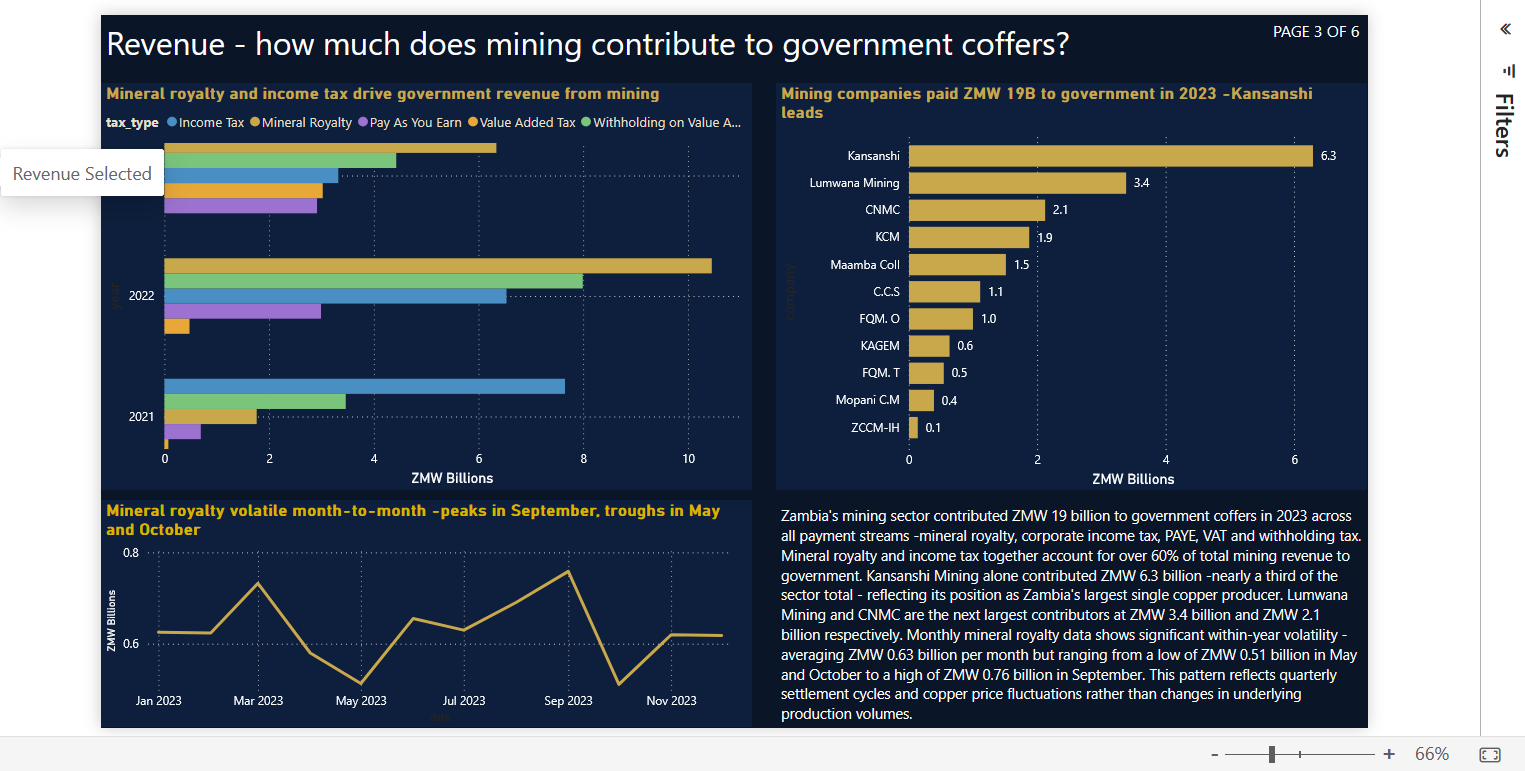

This screenshot's page, from the dashboard's own definition file:
{"tool":"powerbi","page":{"name":"Revenue","canvas":[1280,720],"ordinal":2},"visuals":[{"type":"textbox","box":[0,0,1093.6,68],"z":0},{"type":"textbox","box":[1178.2,0,101.2,52.9],"z":1000},{"type":"clusteredBarChart","title":"Mineral royalty and income tax drive government revenue from mining","fields":{"Y":["Sum(2_revenue_master.amount_zmw_billions)"],"Category":["2_revenue_master.year"],"Series":["2_revenue_master.tax_type"]},"box":[0,68,657.6,412],"z":2000},{"type":"clusteredBarChart","title":"Mining companies paid ZMW 19B to government in 2023 -Kansanshi leads","fields":{"Category":["3_company_fiscal_master.company"],"Y":["Sum(3_company_fiscal_master.amount_zmw_billions)"]},"box":[682.2,68,597.2,412],"z":3000},{"type":"lineChart","title":"Mineral royalty volatile month-to-month -peaks in September, troughs in May and October","fields":{"Category":["2_revenue_master.date"],"Y":["Sum(2_revenue_master.amount_zmw_billions)"]},"box":[0,490,658,230],"z":4000},{"type":"textbox","box":[682,490,597,230],"z":5000}]}

Visuals, with their boxes on the page's 1280x720 design canvas (x1, y1, x2, y2). These are canvas units, not pixel positions in the 1525x771 screenshot, which may show the page scaled, cropped or inside an application window:
textbox: [0,0,1094,68]
textbox: [1178,0,1279,53]
"Mineral royalty and income tax drive government revenue from mining" clusteredBarChart: [0,68,658,480]
"Mining companies paid ZMW 19B to government in 2023 -Kansanshi leads" clusteredBarChart: [682,68,1279,480]
"Mineral royalty volatile month-to-month -peaks in September, troughs in May and October" lineChart: [0,490,658,720]
textbox: [682,490,1279,720]
